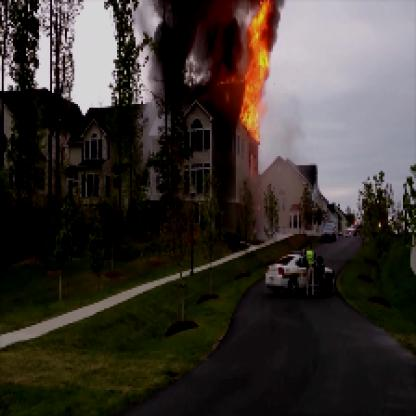Fire: (221, 2, 279, 145)
Smoke: (158, 2, 238, 117)
